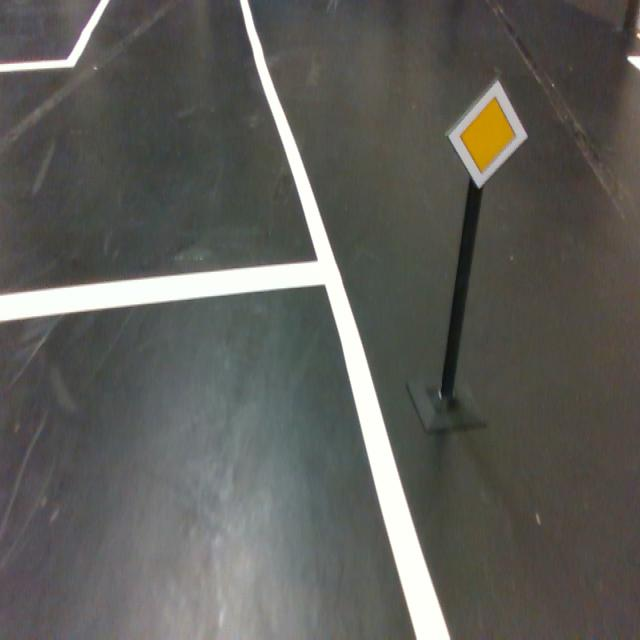priority-sign: (444, 78, 528, 190)
